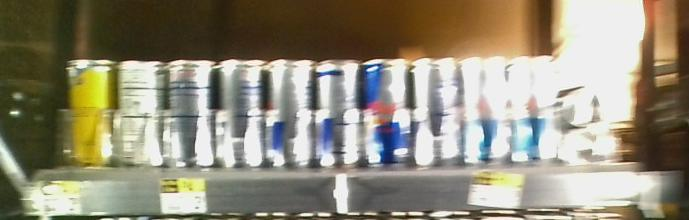bottle: (60, 57, 114, 165), (317, 51, 364, 165), (414, 52, 460, 166), (265, 54, 312, 165), (366, 56, 412, 168), (167, 55, 212, 169), (117, 58, 164, 167), (216, 59, 262, 170), (510, 53, 552, 165), (464, 53, 505, 165)
